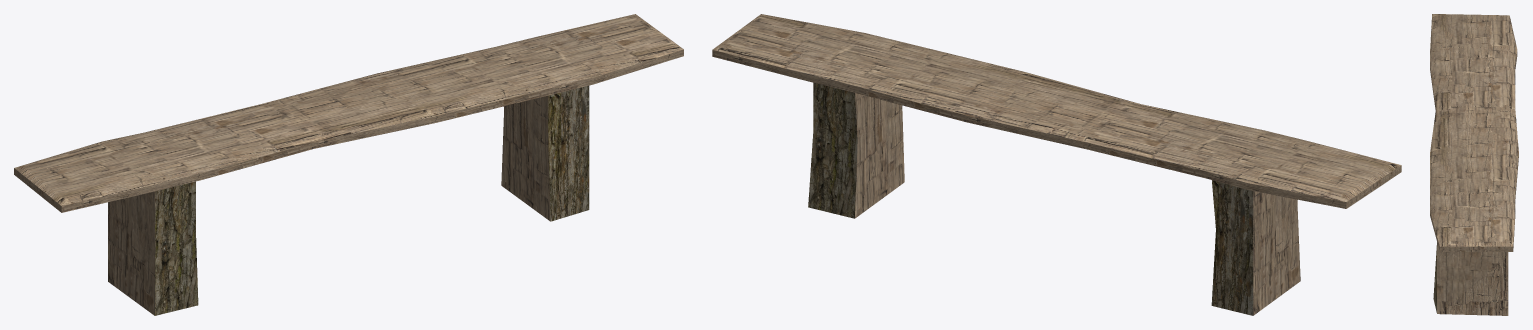
The model's file is bench_small_b_fbx.FBX.
3 views of the same model, side by side, from view 1: azimuth 30°, elevation 25°; view 2: azimuth 150°, elevation 25°; view 3: azimuth 270°, elevation 25° (orthographic). The views are drawn at different scales.
Parts seen in each view (by area): view 1: bench_small_b; view 2: bench_small_b; view 3: bench_small_b.
Boxes of the visible parts, box(x1,y1,x2,y2) form: bench_small_b: box(14, 14, 683, 315); bench_small_b: box(712, 14, 1401, 315); bench_small_b: box(1430, 14, 1518, 315).
Bounding box in the file's own units: 157 × 25.4 × 33.24.
